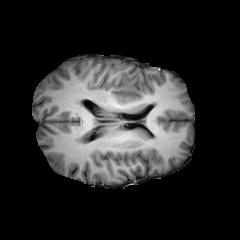glioma: (110, 70, 156, 107)
